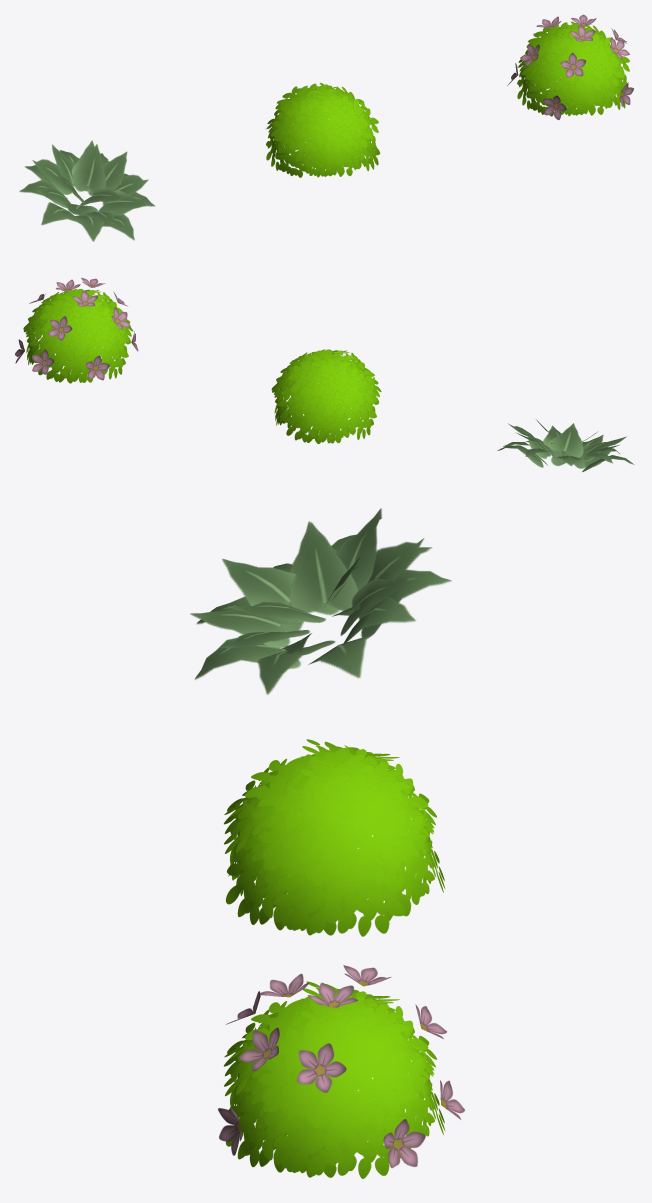
The model's file is bush.glb.
3 renders of one model, top to bottom at view 1: azimuth 30°, elevation 25°; view 2: azimuth 150°, elevation 25°; view 3: azimuth 270°, elevation 25°, orthographic. The views are drawn at different scales.
Visible parts, largest first — view 1: Bush_Flowers, Bush, Plant_1; view 2: Bush_Flowers, Bush, Plant_1; view 3: Bush_Flowers, Bush, Plant_1.
Part boxes in pixels (x1=…): Bush_Flowers: x1=507, y1=14, x2=633, y2=119; Bush: x1=266, y1=82, x2=380, y2=177; Plant_1: x1=19, y1=140, x2=155, y2=241; Bush_Flowers: x1=15, y1=277, x2=138, y2=383; Bush: x1=271, y1=349, x2=381, y2=443; Plant_1: x1=497, y1=419, x2=634, y2=471; Bush_Flowers: x1=218, y1=965, x2=464, y2=1178; Bush: x1=224, y1=739, x2=445, y2=936; Plant_1: x1=190, y1=508, x2=451, y2=694.
Bounding box in the file's own units: 6.03 × 0.7975 × 1.23.
2 materials, 2 textured.
